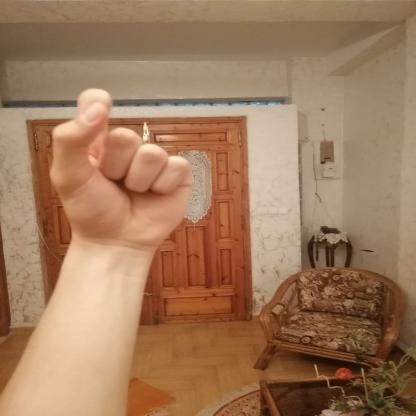FAA: (31, 80, 212, 259)
